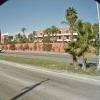Tree: (61, 7, 97, 68)
